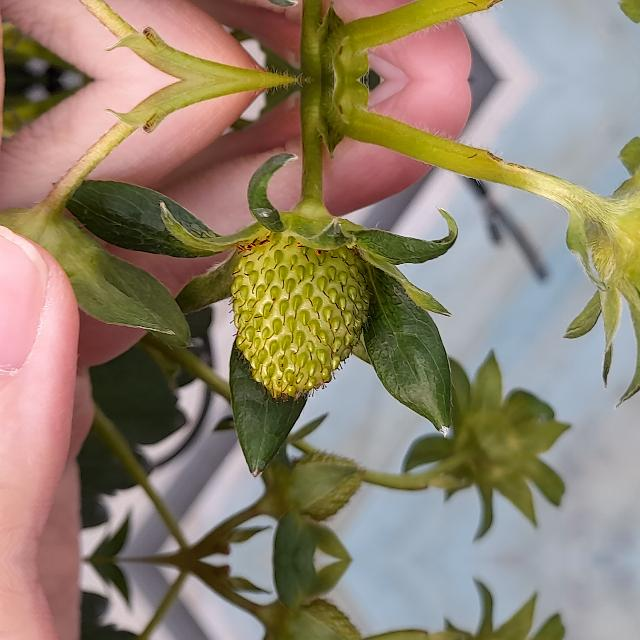Health_25: (228, 239, 374, 403)
